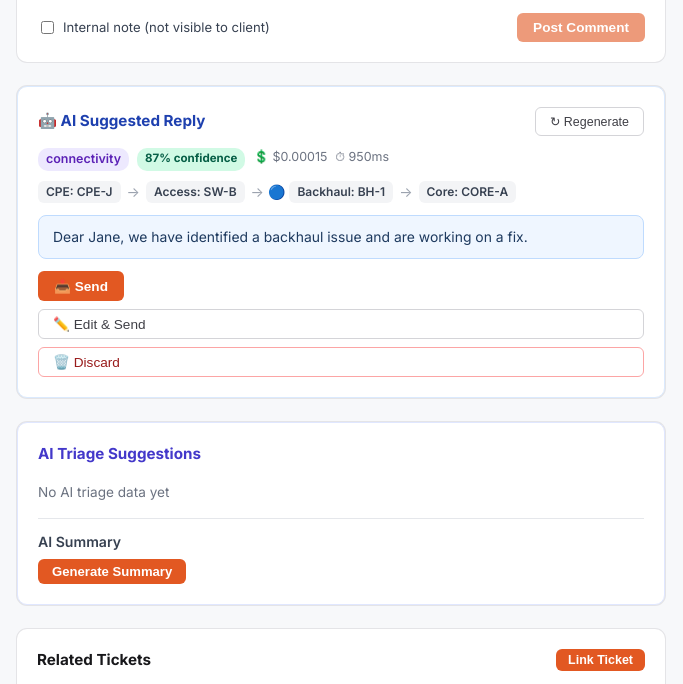
it: AiSuggestedReplyPanel › opens edit mode when Edit & Send is clicked
(page scrolled)
Click the button labelled "✏️ Edit & Send" at (110, 325), box [38,309,644,339]
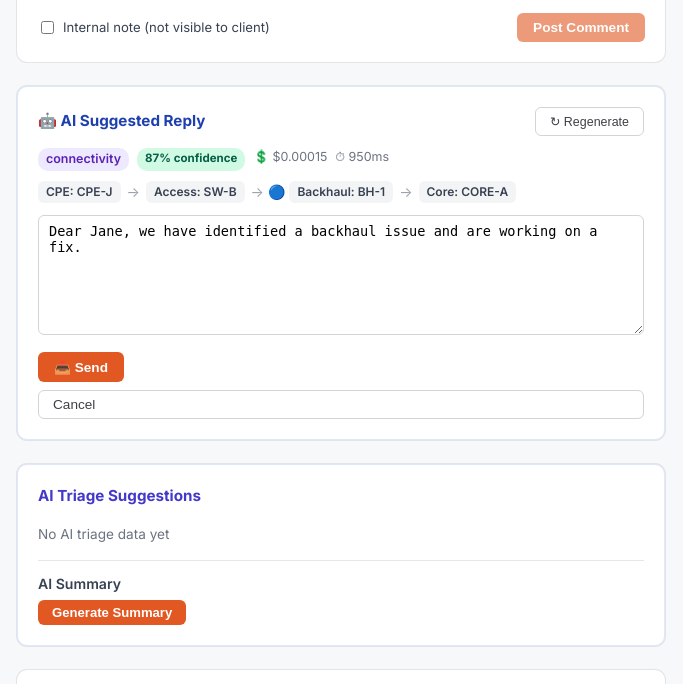
Expected: the text box named "Edit draft" is shown, [38,215,644,335]
